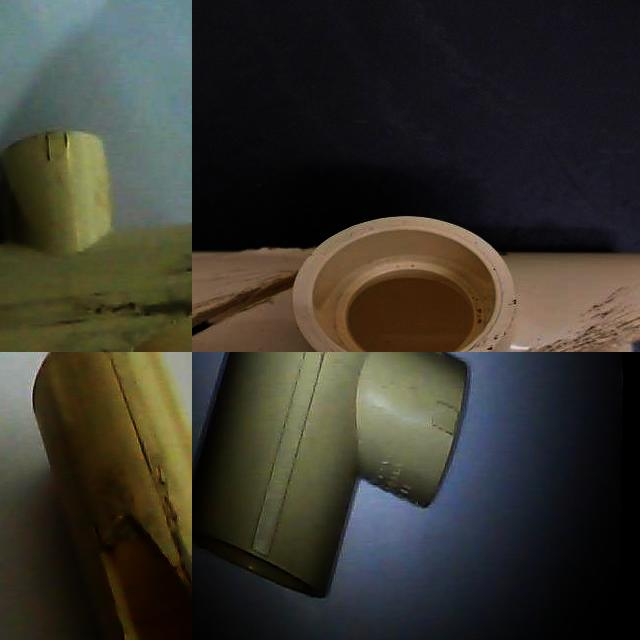Defective: (0, 132, 192, 352), (103, 516, 192, 640), (192, 266, 312, 352), (523, 284, 640, 352), (112, 305, 192, 352), (563, 318, 640, 352), (130, 316, 192, 352)
T Joint: (192, 352, 471, 600), (192, 219, 640, 352), (31, 352, 192, 640)
